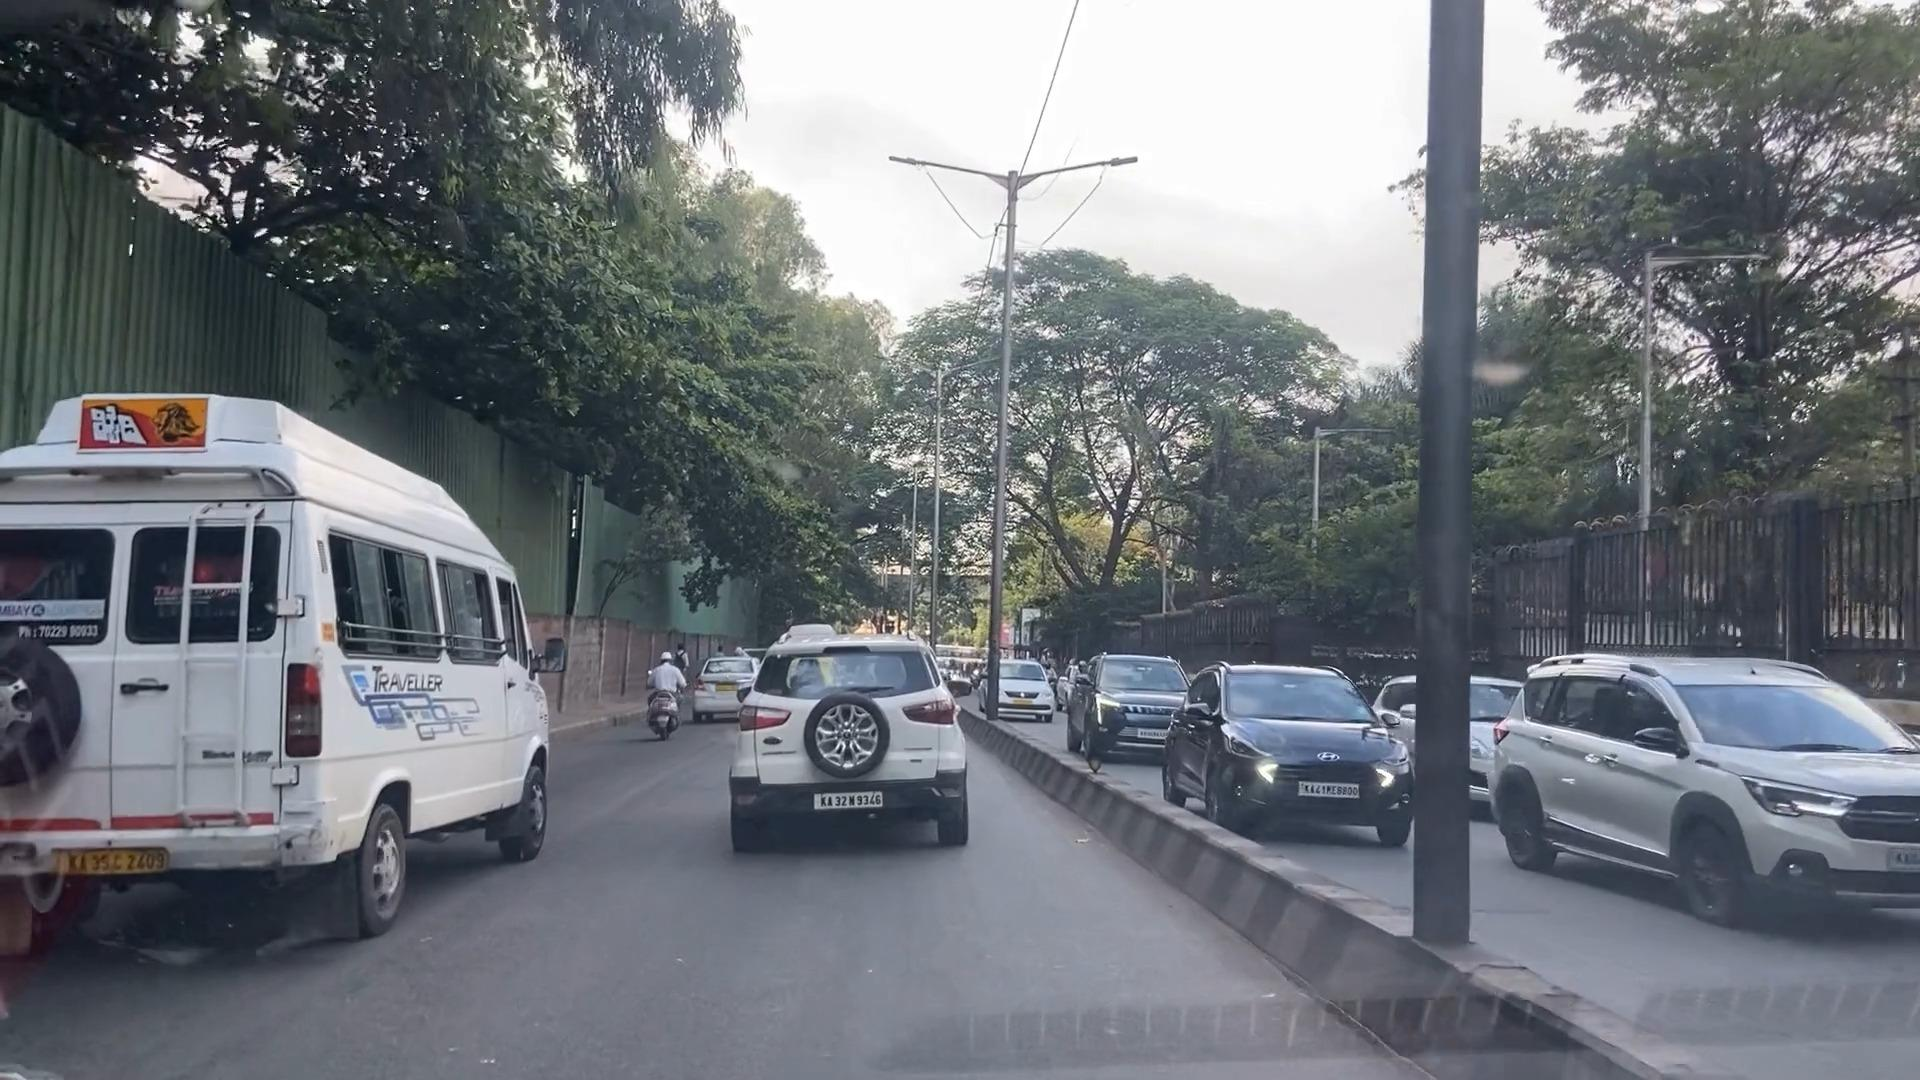HMV: (3, 381, 562, 948)
LMV: (741, 628, 981, 864)
